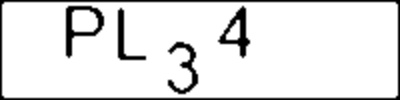3: (164, 39, 203, 98)
4: (217, 4, 255, 59)
L: (111, 3, 153, 64)
P: (64, 1, 105, 61)
